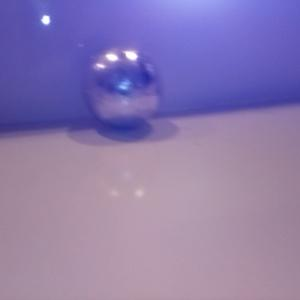alive_ball: (80, 47, 160, 127)
